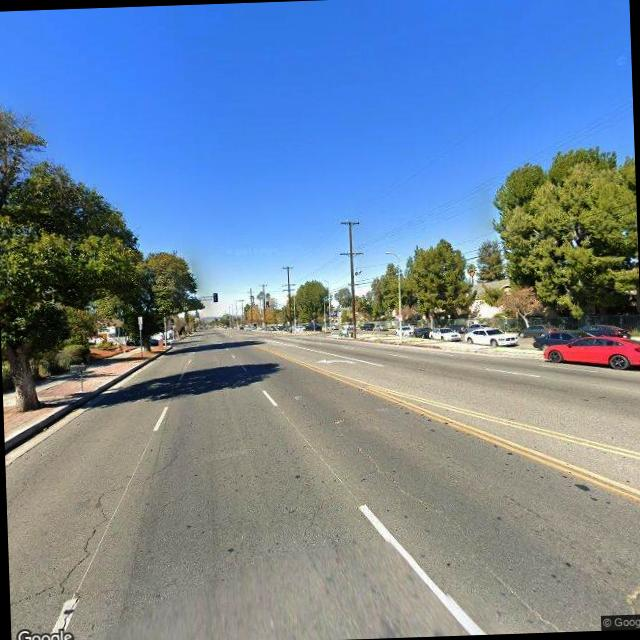pothole: (328, 405, 556, 628), (19, 430, 189, 606)
